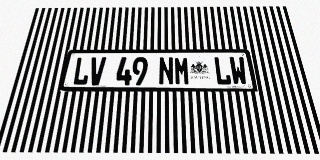4: (115, 57, 133, 85)
9: (132, 57, 148, 85)
L: (72, 57, 91, 85), (213, 57, 232, 85)
M: (174, 57, 190, 85)
N: (158, 57, 174, 85)
V: (88, 57, 106, 85)
W: (229, 57, 248, 85)
